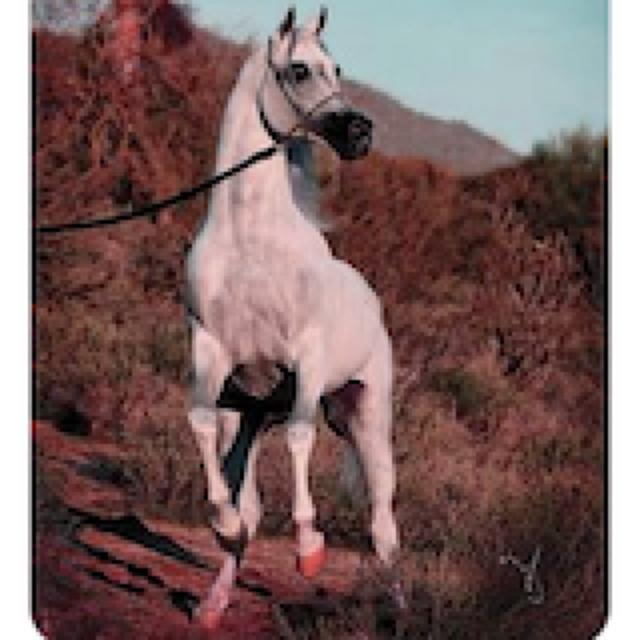Horse: (176, 0, 416, 632)
